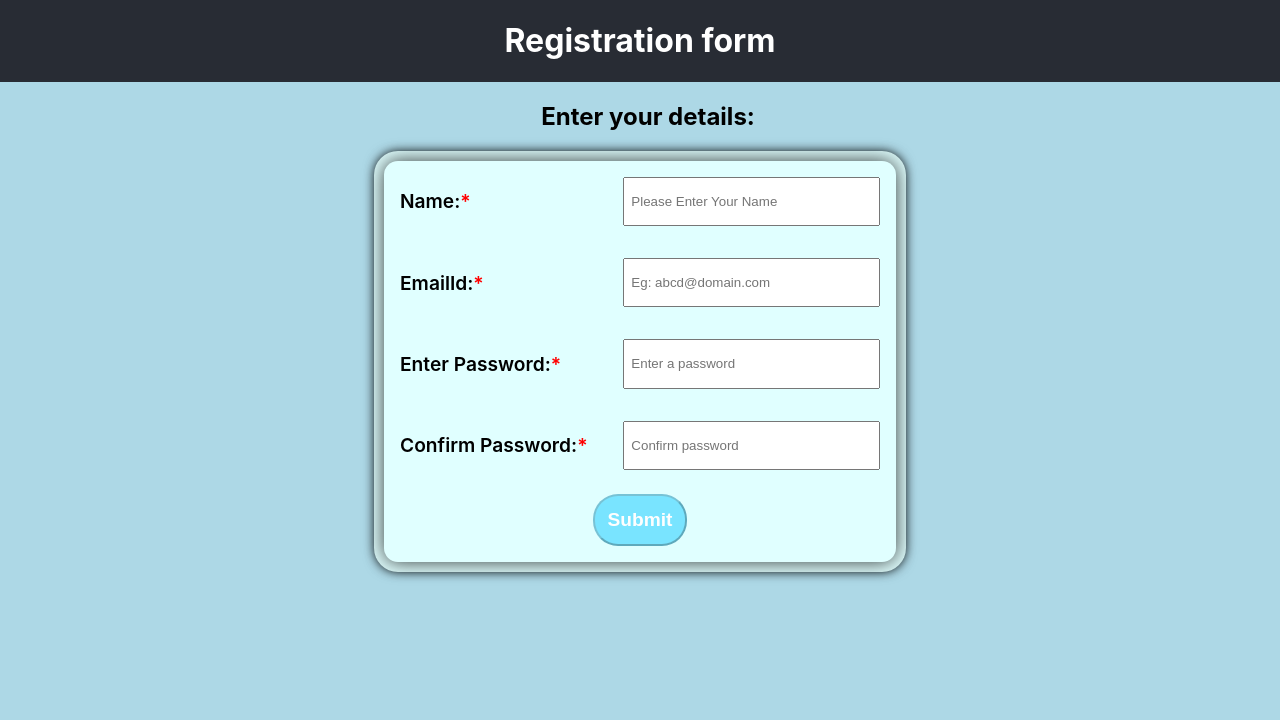
enables submit button when form is valid
This screenshot has width=1280, height=720.
Step 1. Type "John Doe" into the field labelled "Name:" → (751, 201), box [623, 177, 880, 226]
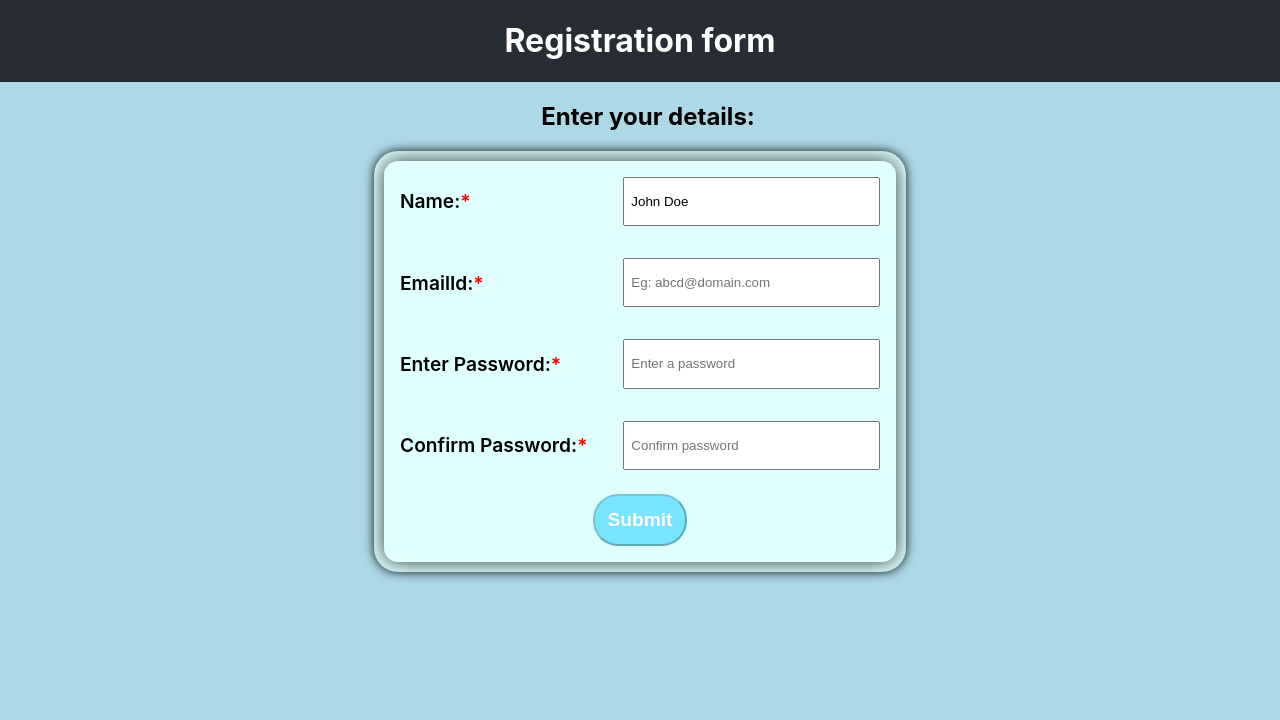
Step 2. Type "abc@abc.com" into the field labelled "EmailId:" → (751, 283), box [623, 258, 880, 307]
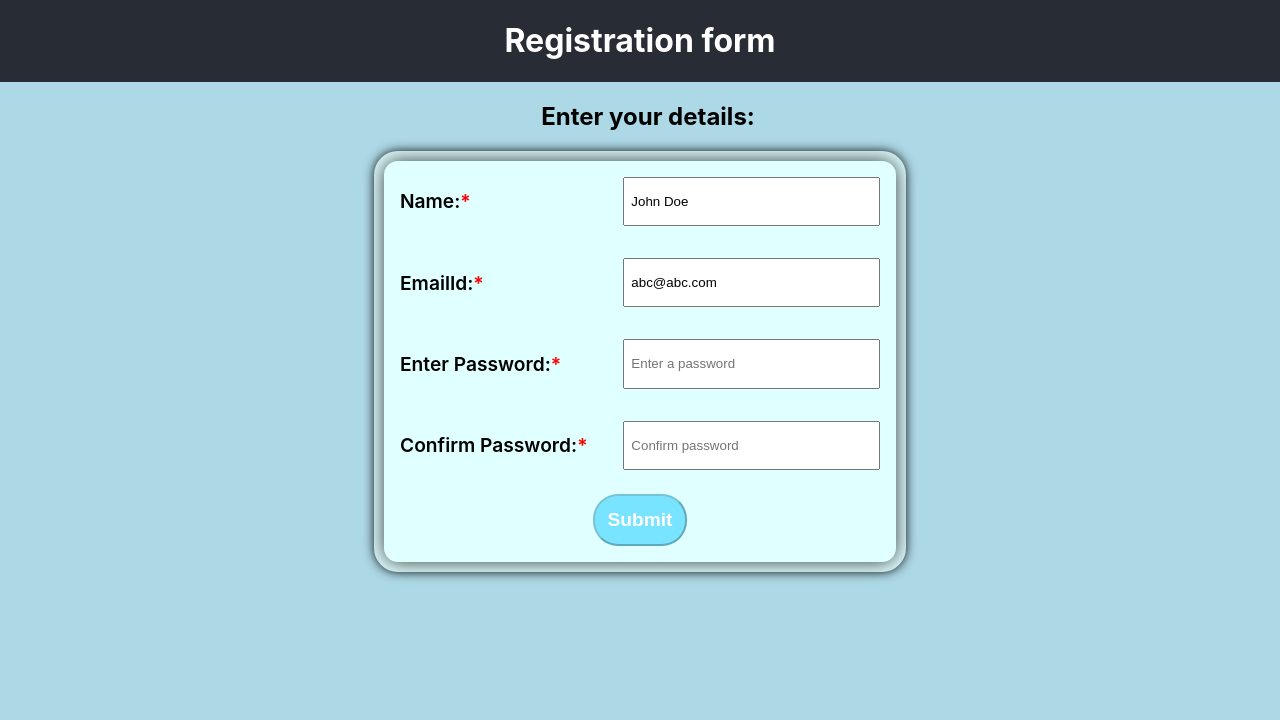
Step 3. Type "123456" into the password field labelled "Enter Password:" → (751, 364), box [623, 339, 880, 389]
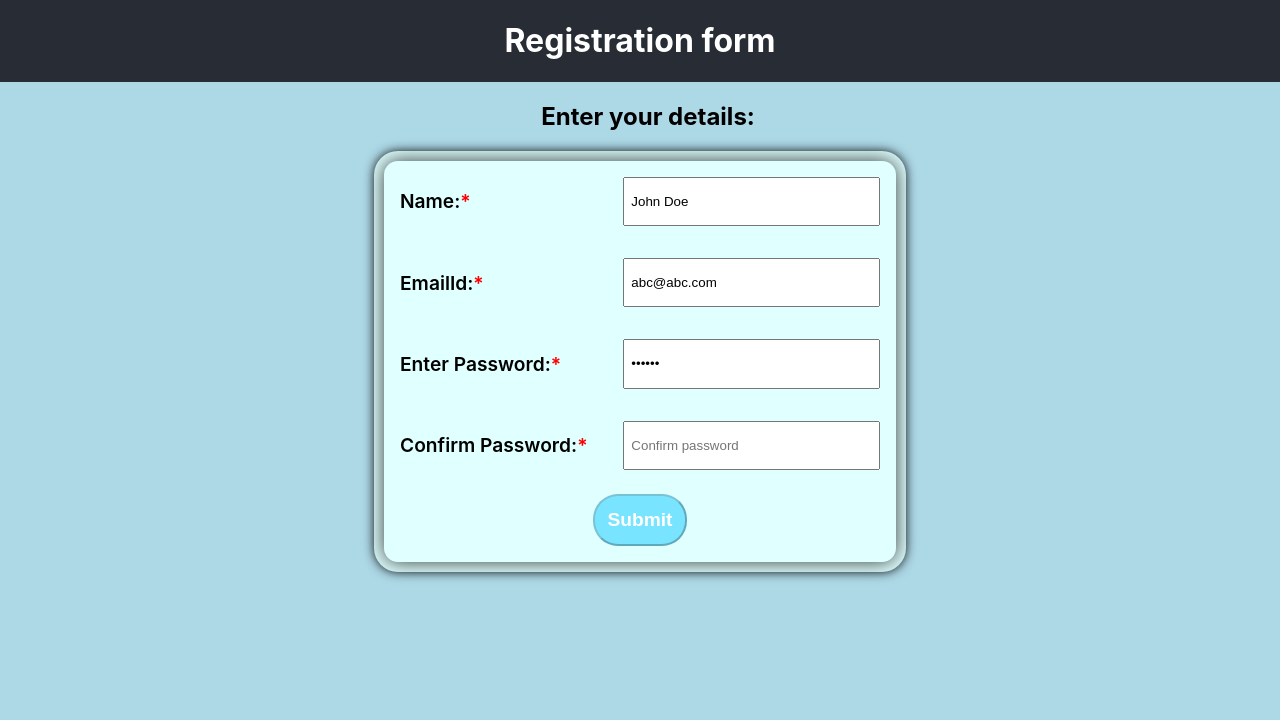
Step 4. Type "123456" into the password field labelled "Confirm Password:" → (751, 445), box [623, 421, 880, 470]
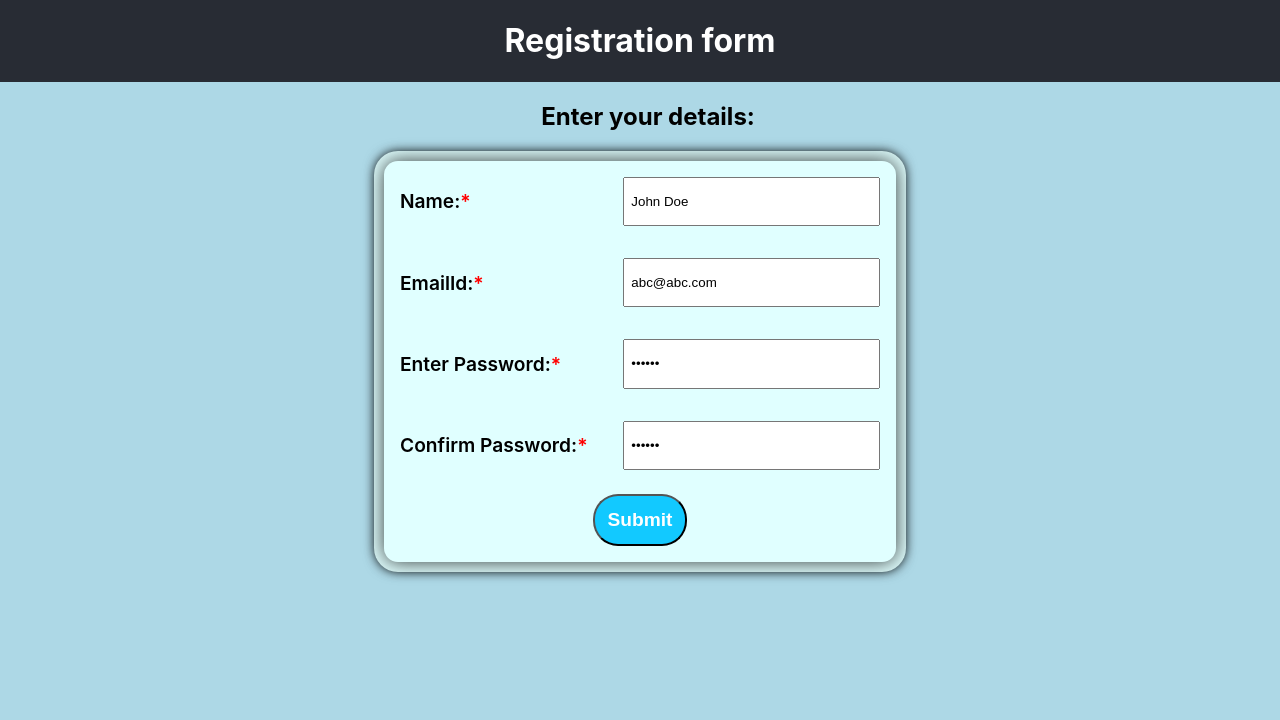
Check: the button "Submit" is enabled, box [593, 494, 687, 546]
